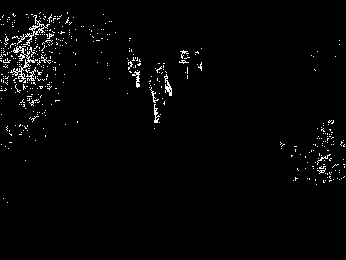person: (147, 62, 175, 124)
